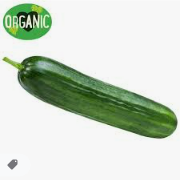Kumquat: (20, 43, 177, 149)
